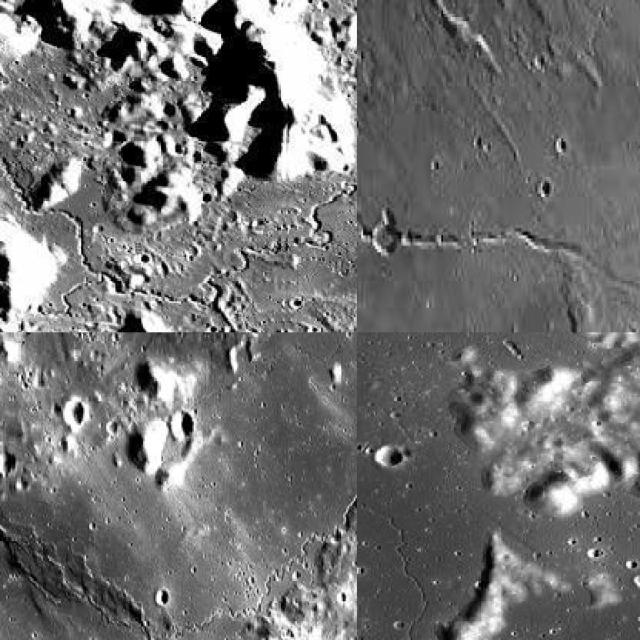rille: (0, 0, 355, 317), (356, 0, 638, 312), (0, 406, 355, 638), (357, 332, 440, 638)
